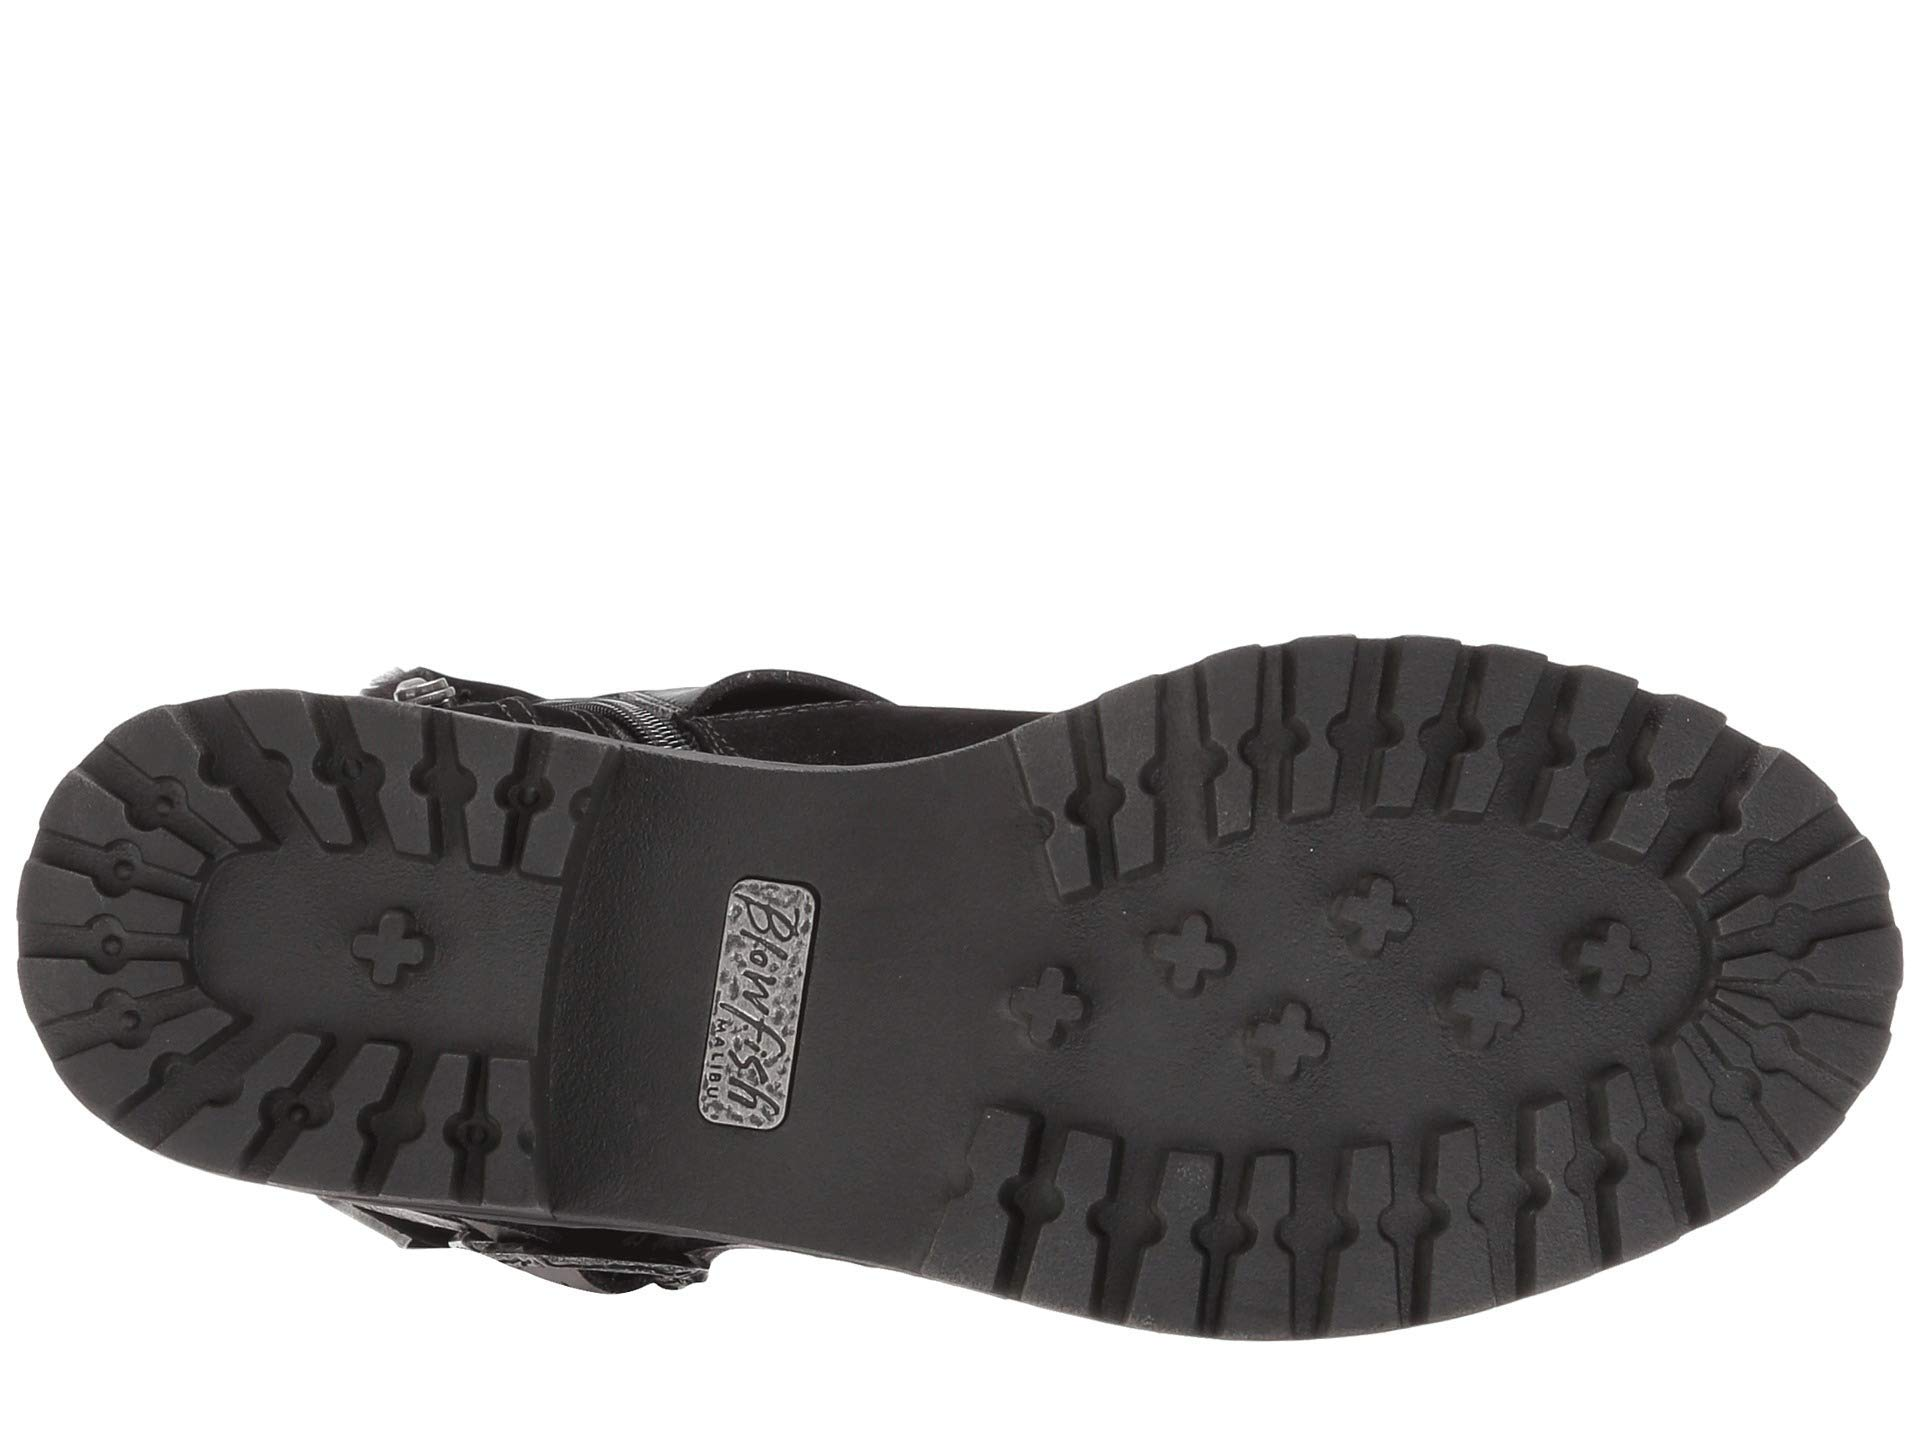bowtie: (1178, 610, 1556, 1059), (887, 935, 1209, 1322), (266, 880, 556, 1215), (12, 731, 243, 1026)
circle: (266, 880, 556, 1215), (12, 731, 243, 1026)
star: (1178, 610, 1556, 1059), (887, 935, 1209, 1322), (266, 880, 556, 1215)
